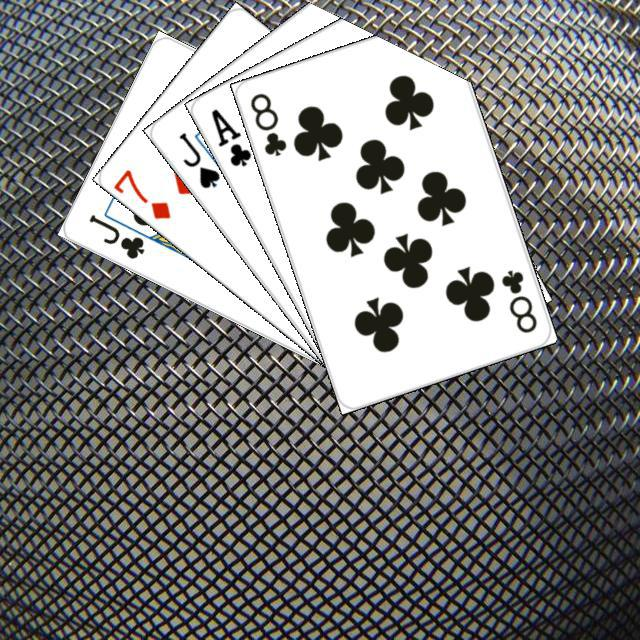7d: (109, 164, 173, 222)
8c: (496, 264, 539, 335), (245, 88, 288, 158)
Ac: (206, 103, 254, 169)
Jc: (84, 209, 146, 261)
Js: (173, 127, 222, 190)
